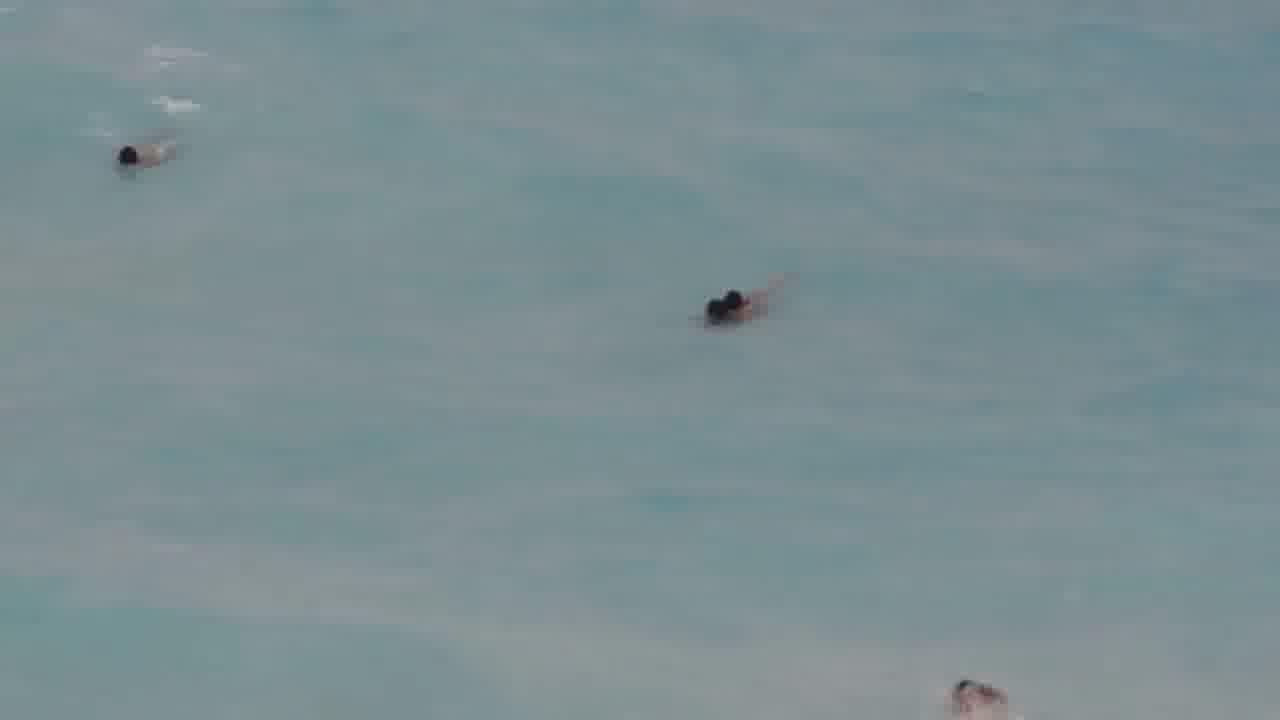human: (931, 664, 1018, 719), (106, 129, 182, 168), (723, 278, 795, 313), (688, 296, 740, 329)
